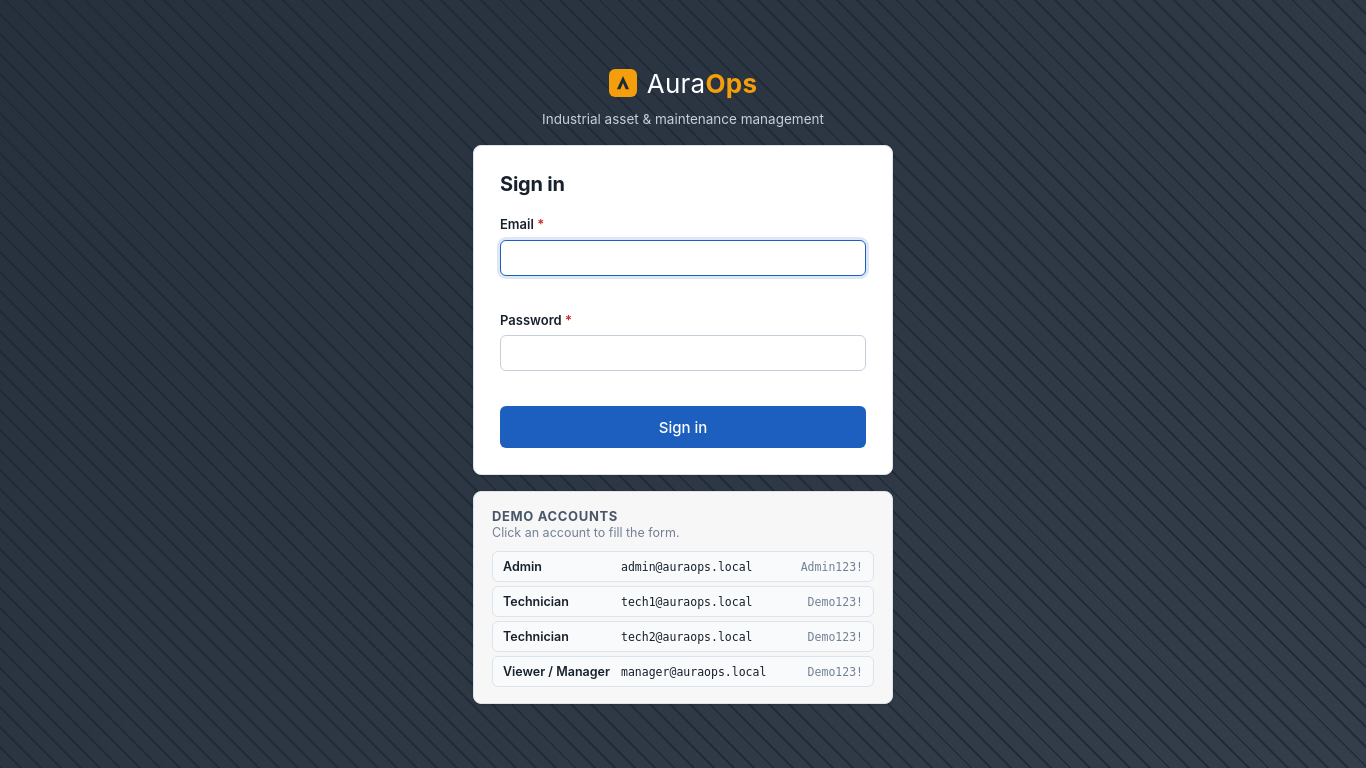
LoginPage › shows required-field messages and does not call the API when submitted empty
Click the button "Sign in": (683, 427) [500,406,866,448]
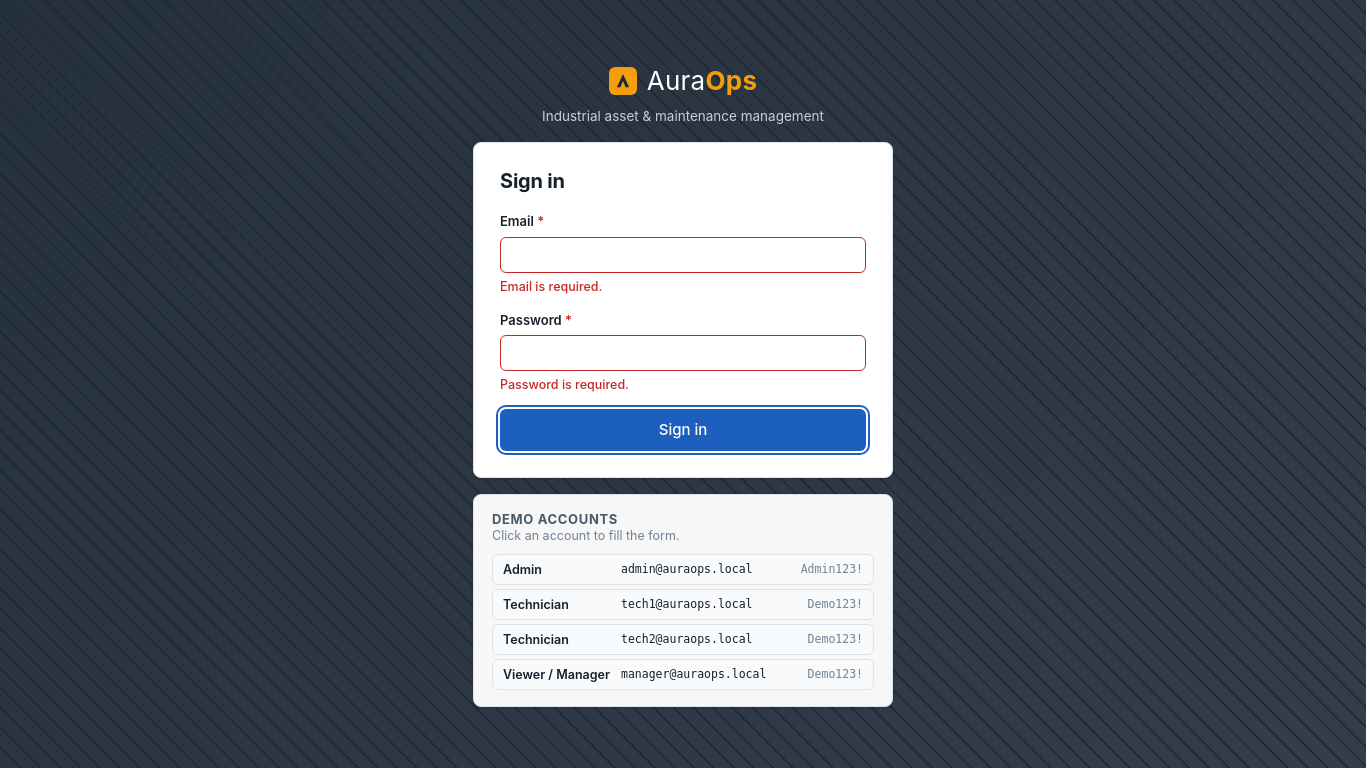
Expected: the text "Email is required." is shown, [500,278,602,297]
Expected: the text "Password is required." is shown, [500,376,629,395]
